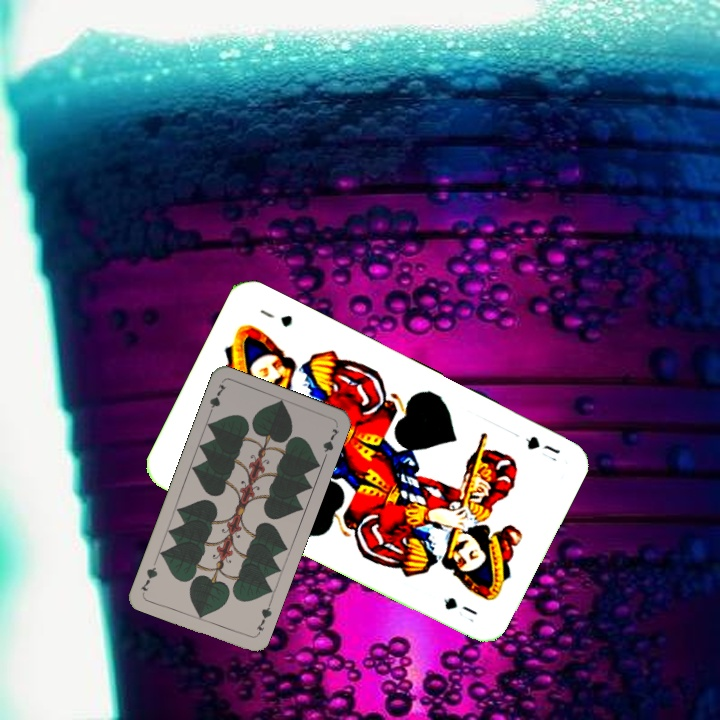G7: (204, 380, 228, 419), (252, 599, 274, 638)
GU: (521, 432, 563, 465)
